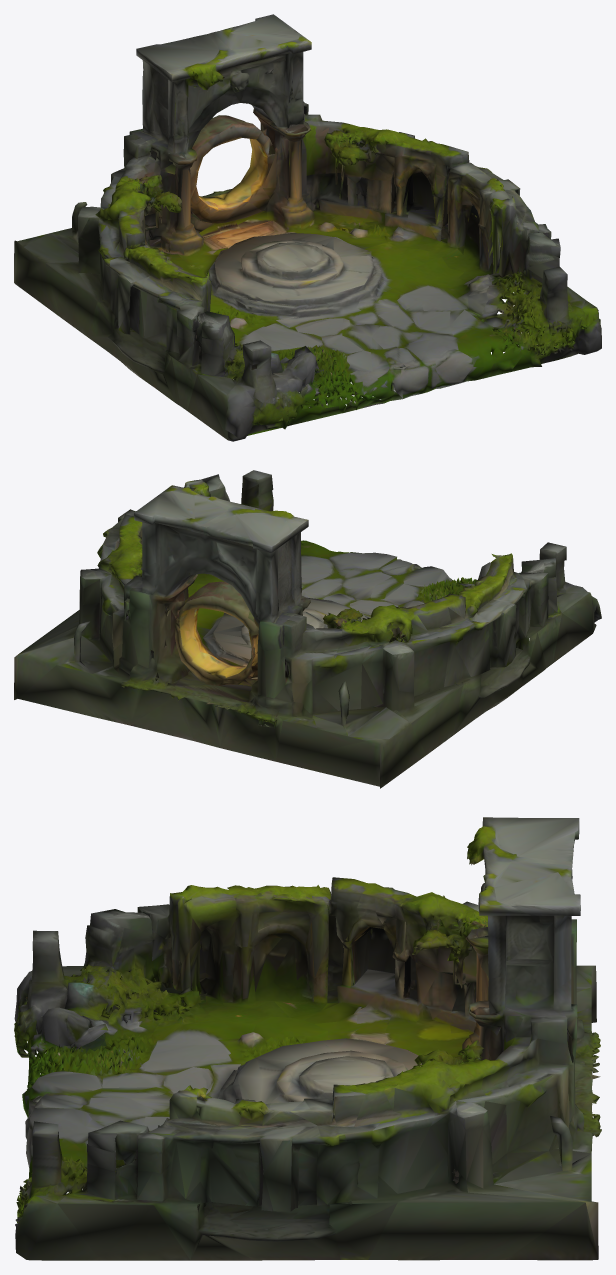
File: portal.glb
3 views of the same model, one above another, from view 1: azimuth 30°, elevation 25°; view 2: azimuth 150°, elevation 25°; view 3: azimuth 270°, elevation 25° (orthographic). The views are drawn at different scales.
Visible parts, largest first — view 1: Mesh_0; view 2: Mesh_0; view 3: Mesh_0.
Part boxes in pixels (x1,y1,x2,y2): Mesh_0: (14,14,601,441); Mesh_0: (14,470,601,788); Mesh_0: (14,817,601,1260).
Size of the model in its own units: 2 by 1.06 by 1.97.
Materials: 1 (1 with a texture image).
